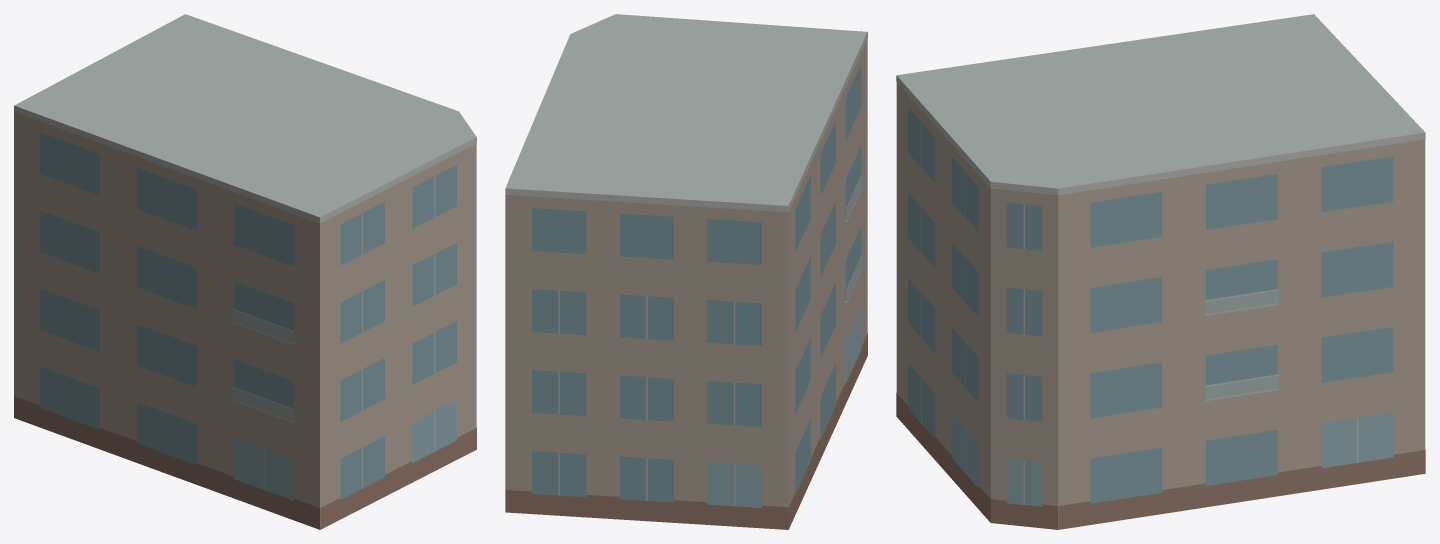
File: survey-upis-32853663.glb
3 renders of one model, left to right at view 1: azimuth 30°, elevation 25°; view 2: azimuth 150°, elevation 25°; view 3: azimuth 270°, elevation 25°, orthographic. The views are drawn at different scales.
Visible parts, largest first — view 1: survey-upis-32853663.tmp; view 2: survey-upis-32853663.tmp; view 3: survey-upis-32853663.tmp.
Boxes of the visible parts, x1=… form: survey-upis-32853663.tmp: x1=14, y1=14, x2=476, y2=529; survey-upis-32853663.tmp: x1=505, y1=14, x2=867, y2=529; survey-upis-32853663.tmp: x1=896, y1=14, x2=1425, y2=529.
Size of the model in its own units: 13.62 by 12.4 by 17.43.
